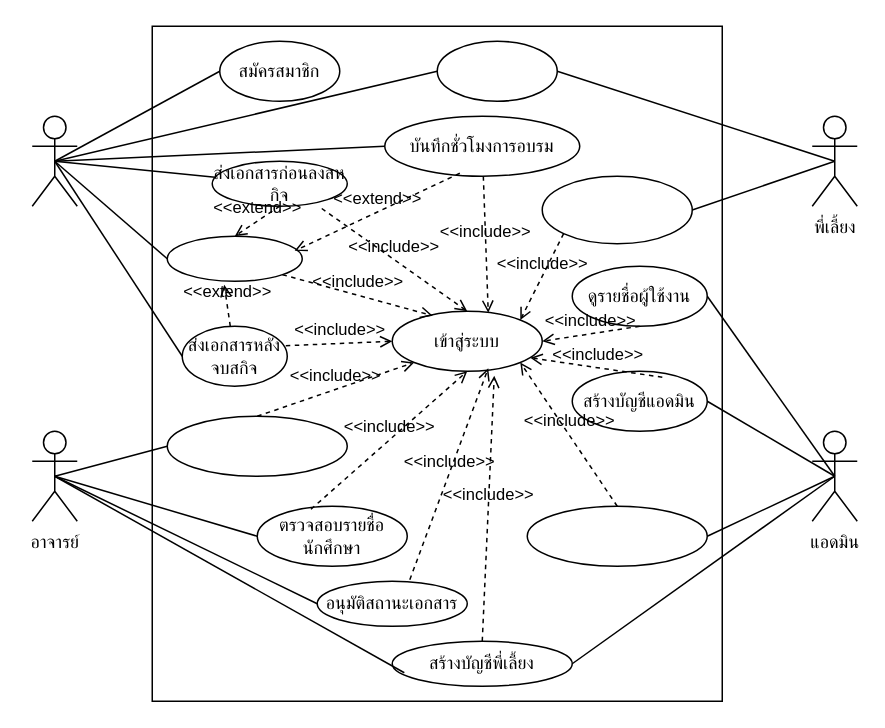
The diagram is 885 pixels wide and 728 high, and some of its shapes have lost their labels. The shapes that lost their labels are listed below. From the top down, each one's centre as x and y in pixels, then its label:
At point (496, 70): "ดูประกาศจากอาจารย์".
At point (54, 160): "นักศึกษา".
At point (616, 209): "ส่งเอกสารประเมินนักศึกษา".
At point (234, 258): "ตรวจสอบข้อมูล".
At point (256, 445): "ประกาศข้อมูลข่าวสาร".
At point (616, 535): "สร้างบัญชีอาจารย์".
